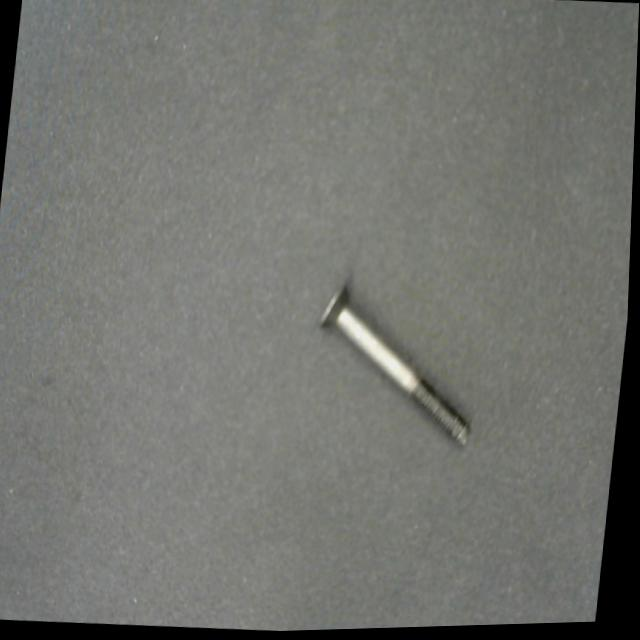FlatHeadSocketScrew: (307, 280, 489, 458)
